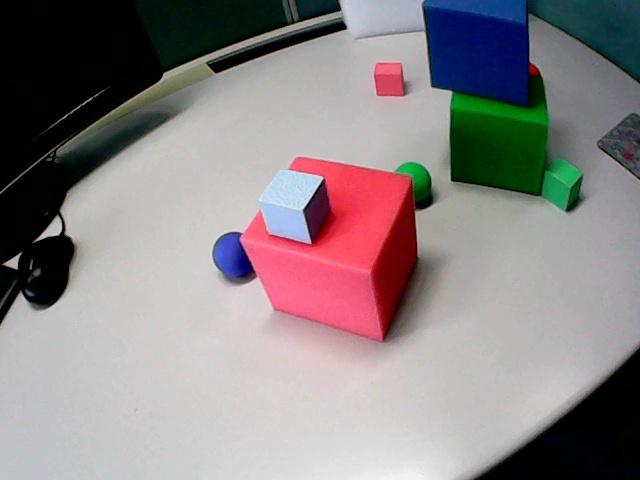blue_block: (423, 0, 528, 105), (259, 170, 329, 243)
red_block: (241, 157, 416, 340), (374, 62, 404, 95)
